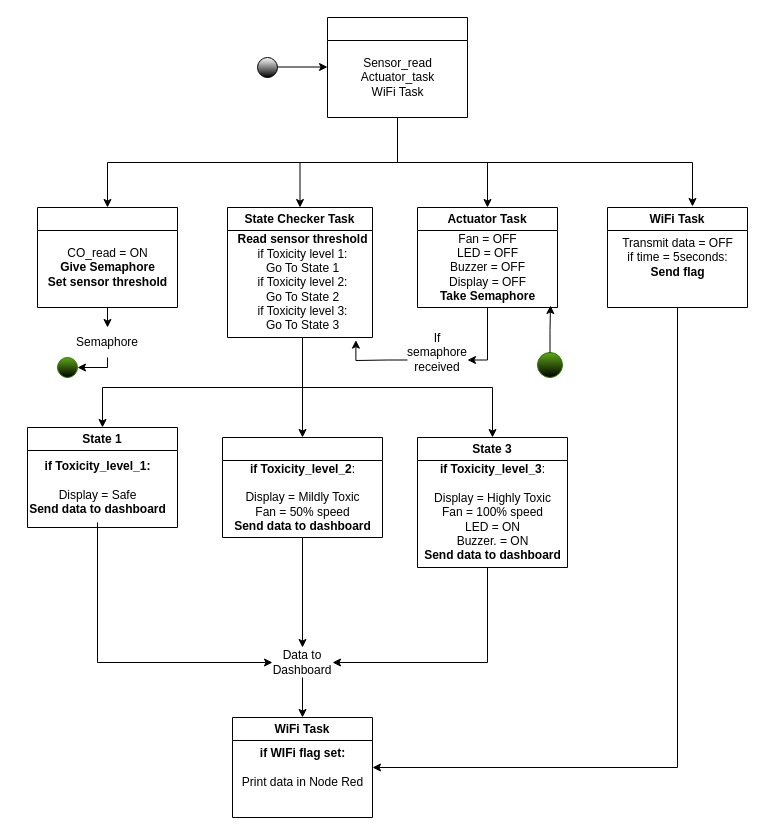
The diagram is 765 pixels wide and 835 high, and some of its shapes have lost their labels. The box of each missing label's shape, as (x1, y1, x2, y2) in pixels:
Sensor Read: (36, 206, 178, 308)
Start Task Scheduling: (326, 16, 468, 118)
State 2: (222, 436, 382, 538)
